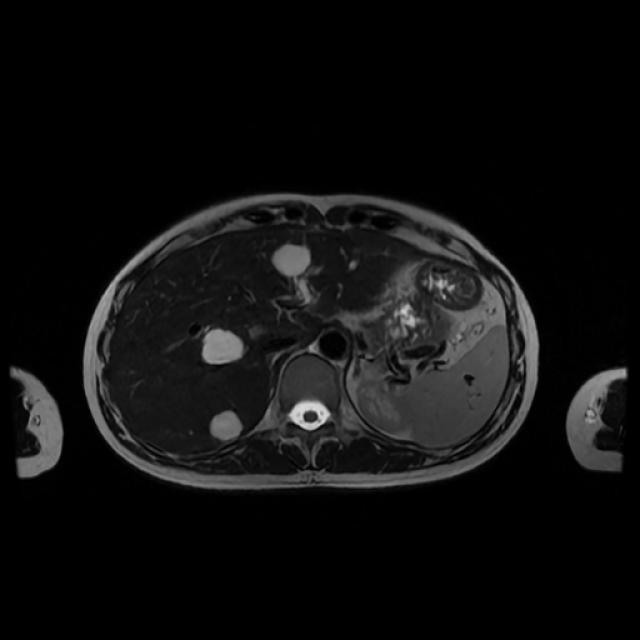sol: (357, 379, 410, 434)
